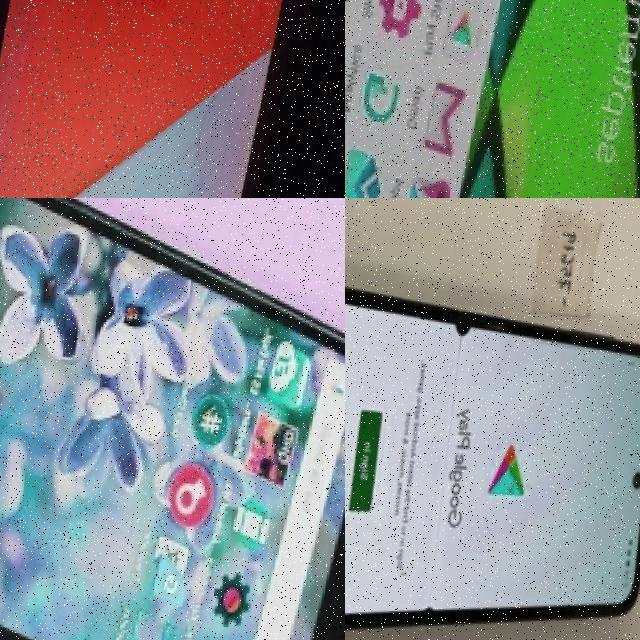dead pixel: (446, 299, 484, 351), (422, 576, 457, 629)
